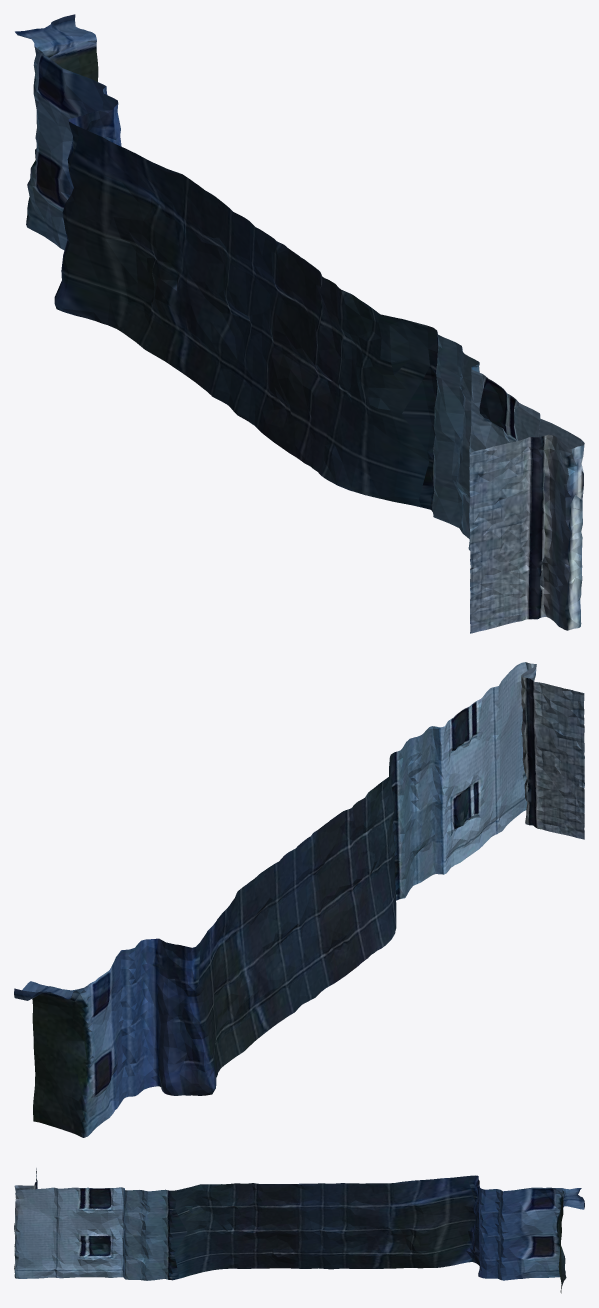
File: tile_5_20_17_tex.obj
3 renders of one model, top to bottom at view 1: azimuth 30°, elevation 25°; view 2: azimuth 150°, elevation 25°; view 3: azimuth 270°, elevation 25°, orthographic. The views are drawn at different scales.
Parts seen in each view (by area): view 1: obj_0; view 2: obj_0; view 3: obj_0.
Part boxes in pixels (box(x1,y1,x2,y2)): obj_0: box(15, 14, 584, 633); obj_0: box(14, 662, 584, 1137); obj_0: box(14, 1168, 584, 1293).
Size of the model in its own units: 5.01 by 5.64 by 32.26.
Materials: 1 (1 with a texture image).
